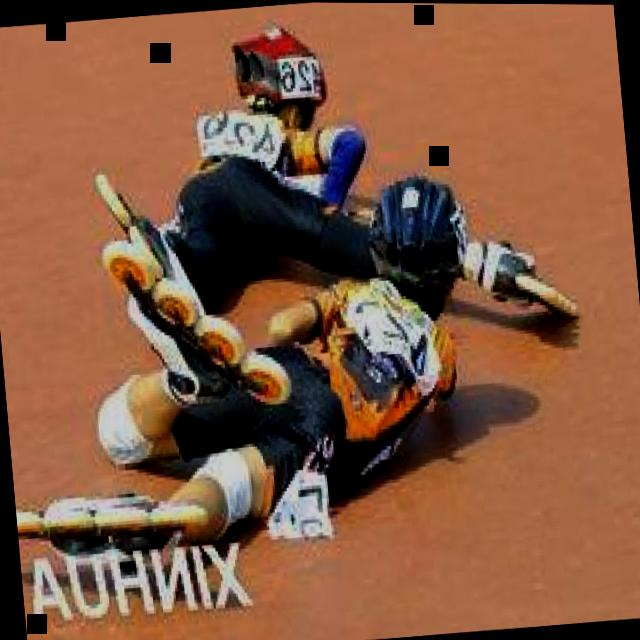Fall-Detected: (53, 167, 480, 574)
